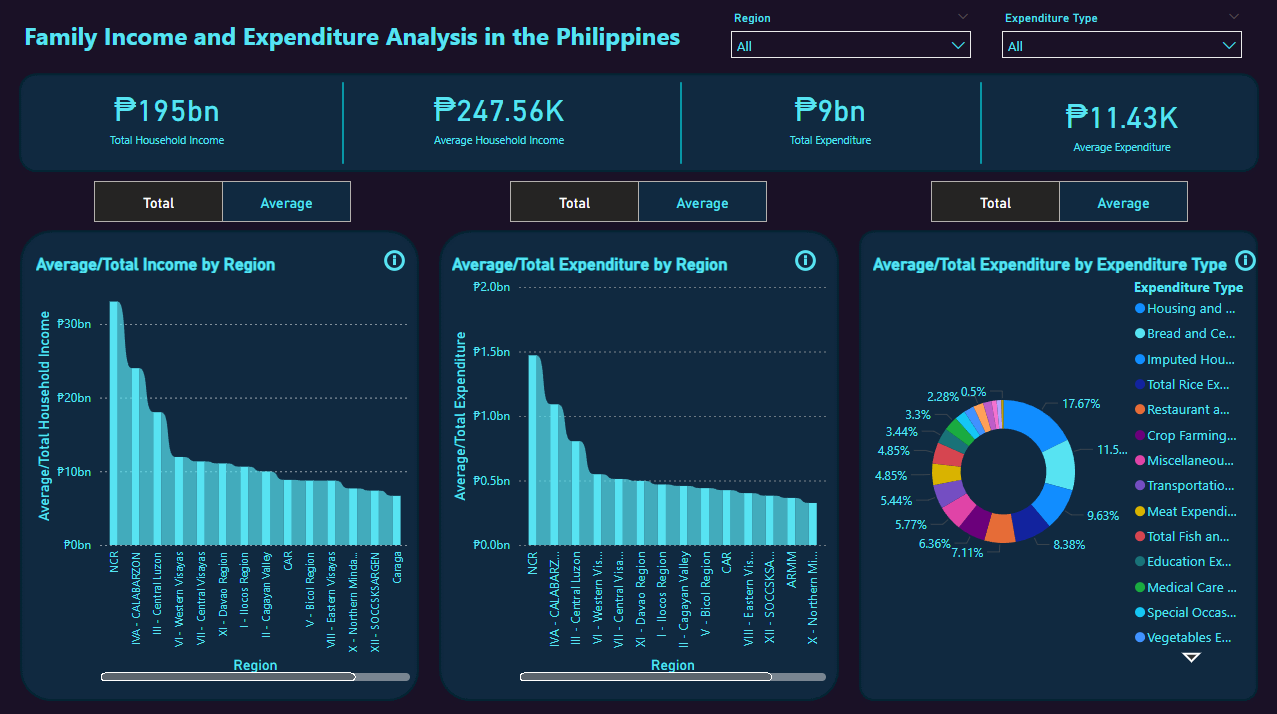

The page's visual inventory and layout, read from the dashboard file:
{"tool":"powerbi","page":{"name":"Summary","canvas":[1280,720],"ordinal":0},"visuals":[{"type":"textbox","box":[20,16,740,51],"z":0},{"type":"slicer","fields":{"Values":["Family Income and Expenditure.Region"]},"box":[722,8,260,59],"z":1},{"type":"slicer","fields":{"Values":["Family Income and Expenditure.Expenditure Type"]},"box":[993,8,260,59],"z":2},{"type":"card","fields":{"Values":["Family Income and Expenditure.Total Income"]},"box":[32,46,272,144],"z":3},{"type":"shape","box":[194,84,300,82],"z":4},{"type":"card","fields":{"Values":["Family Income and Expenditure.Average Household Income"]},"box":[337,46,326,144],"z":5},{"type":"shape","box":[532,84,300,82],"z":6},{"type":"card","fields":{"Values":["Family Income and Expenditure.Total Expenditure"]},"box":[663,46,337,144],"z":7},{"type":"shape","box":[832,84,300,82],"z":8},{"type":"card","fields":{"Values":["Family Income and Expenditure.Average Expenditure"]},"box":[979,53,288,144],"z":9},{"type":"advancedSlicerVisual","fields":{"Values":["Table.Calc Method"]},"box":[90,178,268,51],"z":10},{"type":"ribbonChart","title":"Average/Total Income by Region","fields":{"Category":["Family Income and Expenditure.Region"],"Y":["Family Income and Expenditure.Average/Total Household Income"]},"box":[32,256,384,432],"z":11},{"type":"actionButton","box":[381,248,35,29],"z":12},{"type":"advancedSlicerVisual","fields":{"Values":["Table.Calc Method"]},"box":[506,178,268,51],"z":13},{"type":"ribbonChart","fields":{"Category":["Family Income and Expenditure.Region"],"Y":["Family Income and Expenditure.Average/Total Expenditure"]},"box":[448,256,384,432],"z":14},{"type":"actionButton","box":[792,248,33,29],"z":15},{"type":"advancedSlicerVisual","fields":{"Values":["Table.Calc Method"]},"box":[927,178,268,51],"z":16},{"type":"donutChart","fields":{"Category":["Family Income and Expenditure.Expenditure Type"],"Y":["Family Income and Expenditure.Average/Total Expenditure"]},"box":[869,256,384,416],"z":17},{"type":"actionButton","box":[1232,248,35,29],"z":18}]}

Visuals, with their boxes in screenshot pixels (x1, y1, x2, y2), scaled from the page's 1280x720 canvas onto the 1277x714 screenshot:
textbox: crop(20, 16, 758, 66)
slicer - Family Income and Expenditure.Region: crop(720, 8, 980, 66)
slicer - Family Income and Expenditure.Expenditure Type: crop(991, 8, 1250, 66)
card - Family Income and Expenditure.Total Income: crop(32, 46, 303, 188)
shape: crop(194, 83, 493, 165)
card - Family Income and Expenditure.Average Household Income: crop(336, 46, 661, 188)
shape: crop(531, 83, 830, 165)
card - Family Income and Expenditure.Total Expenditure: crop(661, 46, 998, 188)
shape: crop(830, 83, 1129, 165)
card - Family Income and Expenditure.Average Expenditure: crop(977, 53, 1264, 195)
advancedSlicerVisual - Table.Calc Method: crop(90, 177, 357, 227)
"Average/Total Income by Region" ribbonChart: crop(32, 254, 415, 682)
actionButton: crop(380, 246, 415, 275)
advancedSlicerVisual - Table.Calc Method: crop(505, 177, 772, 227)
ribbonChart - Family Income and Expenditure.Region x Family Income and Expenditure.Average/Total Expenditure: crop(447, 254, 830, 682)
actionButton: crop(790, 246, 823, 275)
advancedSlicerVisual - Table.Calc Method: crop(925, 177, 1192, 227)
donutChart - Family Income and Expenditure.Expenditure Type x Family Income and Expenditure.Average/Total Expenditure: crop(867, 254, 1250, 666)
actionButton: crop(1229, 246, 1264, 275)
